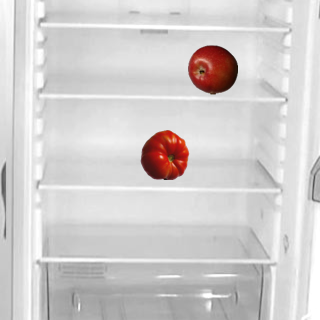Apple Braeburn: (187, 44, 237, 94)
Tomato 3: (139, 129, 189, 179)
